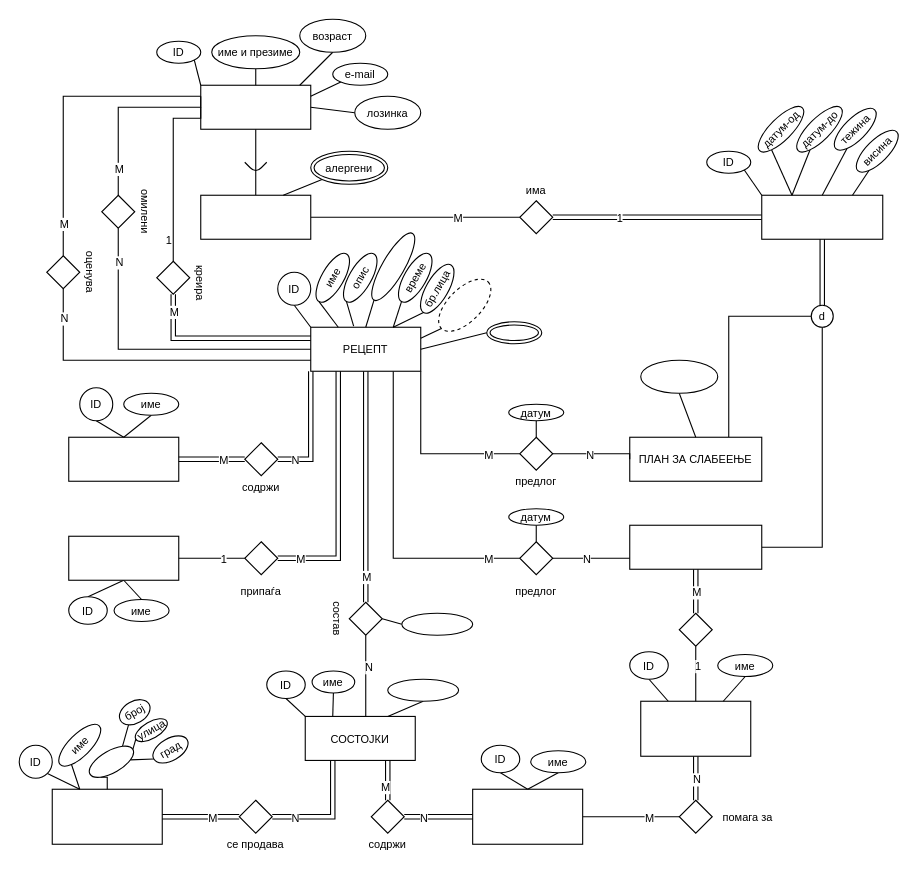
The diagram is 924 pixels wide and 875 high, and some of its shapes have lost their labels. Each missing label, with the box of its shape:
адреса: (83, 739, 138, 784)
бр.калории: (387, 678, 459, 701)
вк.калории: (428, 269, 500, 341)
КАТЕГОРИЈА: (68, 535, 179, 580)
КЛУЧЕН ЗБОР: (68, 436, 179, 481)
количина: (401, 612, 473, 635)
комплексност: (363, 227, 422, 306)
КОРИСНИК: (200, 84, 311, 129)
МЕДИЦИНСКИ ПРОБЛЕМ: (640, 700, 751, 756)
НУТРИТИВНА ВРЕДНОСТ: (472, 788, 583, 844)
ПЛАН ЗА ИСХРАНА: (761, 194, 883, 239)
ПЛАН ЗА МЕД. ПРОБЛЕМ: (629, 524, 762, 569)
посакувана тежина: (640, 359, 718, 393)
ПРЕТПЛАТЕН: (200, 194, 311, 239)
ПРОДАЖНО МЕСТО: (51, 788, 162, 844)
слики: (486, 321, 542, 344)
